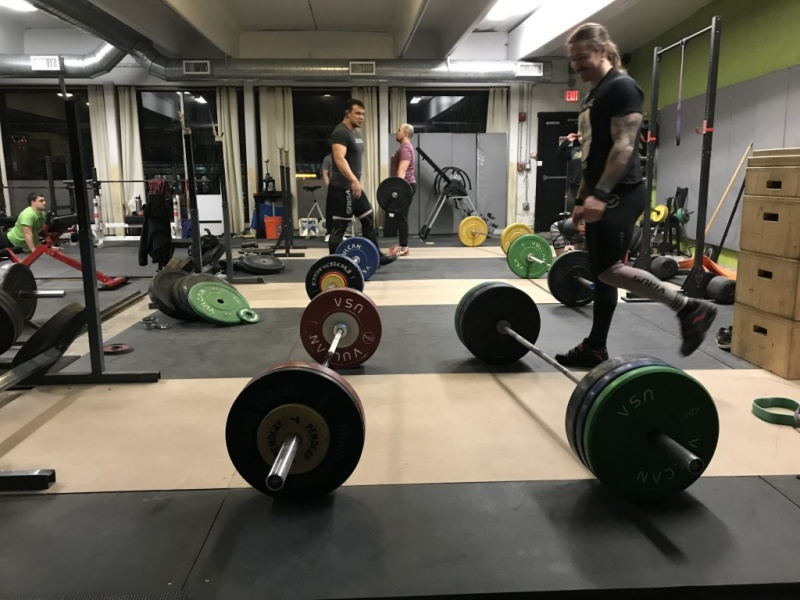barbell: (562, 349, 734, 502), (216, 350, 371, 508), (303, 256, 366, 306), (508, 235, 555, 283)
